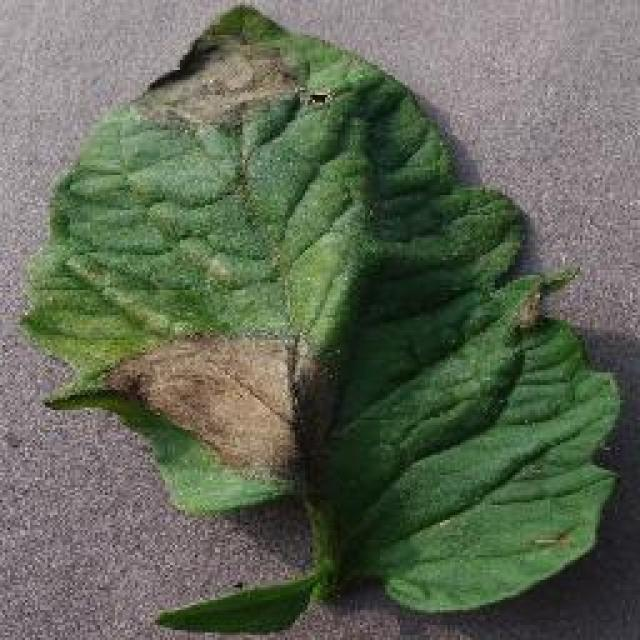Tomato Late Blight: (124, 17, 394, 538)
